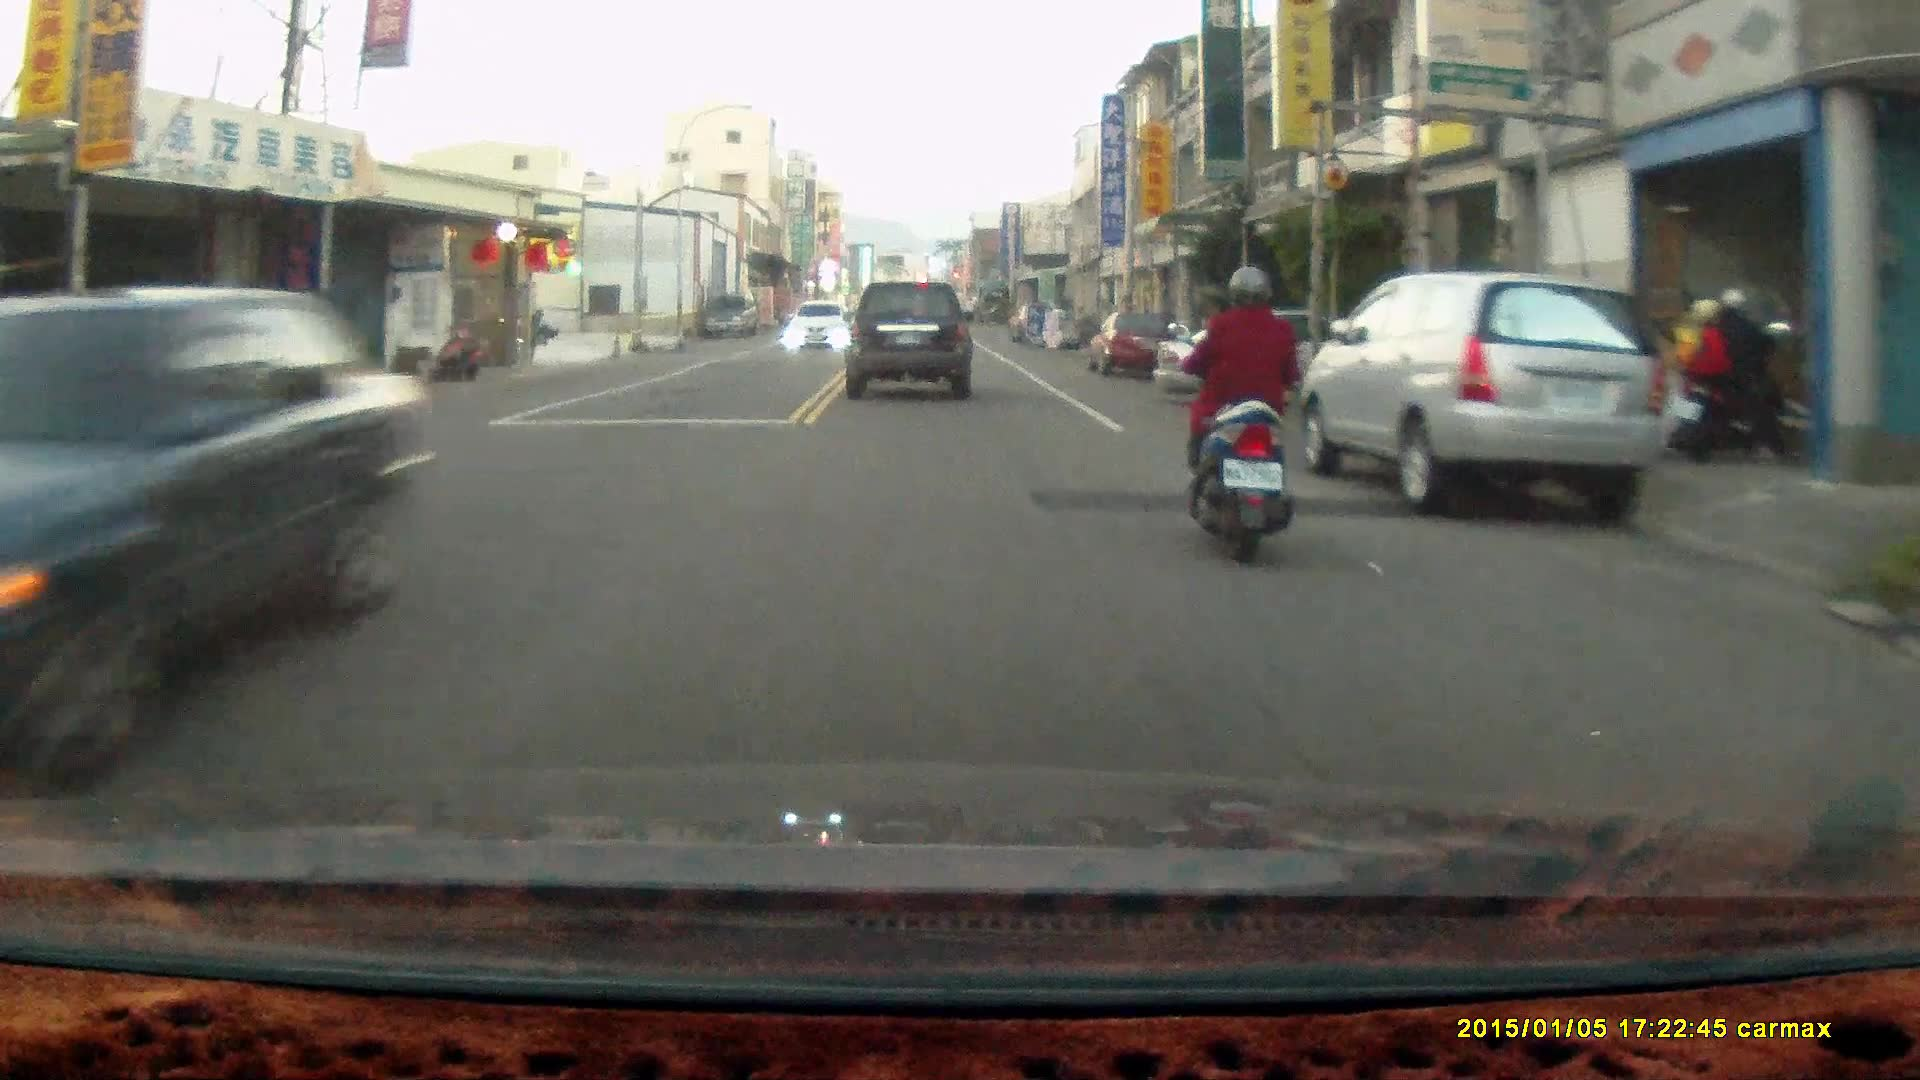rider: (1167, 256, 1298, 562), (1668, 287, 1799, 464)
vehicle: (1, 283, 440, 799), (1304, 267, 1674, 525), (846, 278, 976, 403), (1088, 311, 1180, 378), (785, 301, 847, 352)
